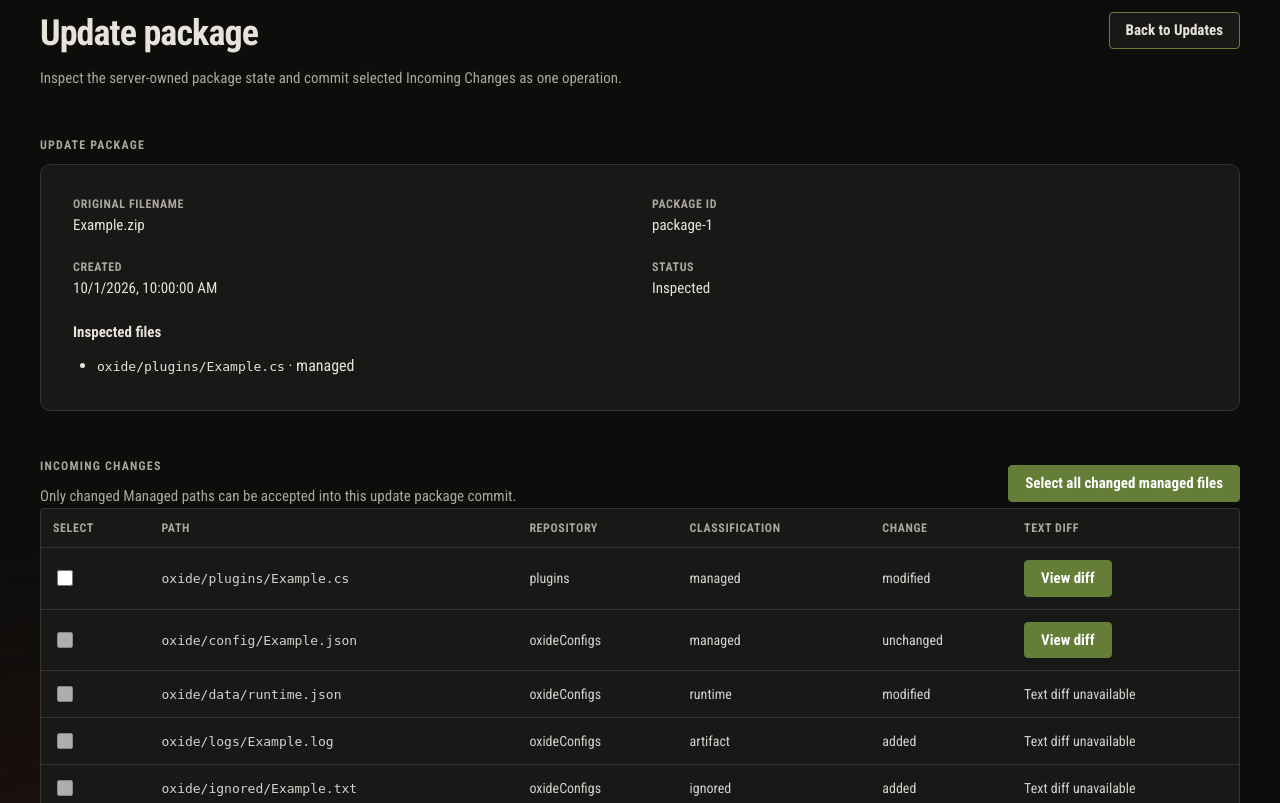
Test case: Plugins Updates › clears stale selection and closes the diff when a concurrency conflict occurs
Click the button "Select all changed managed files". click: [1124, 484]
box: x1=1008 y1=465 x2=1240 y2=502
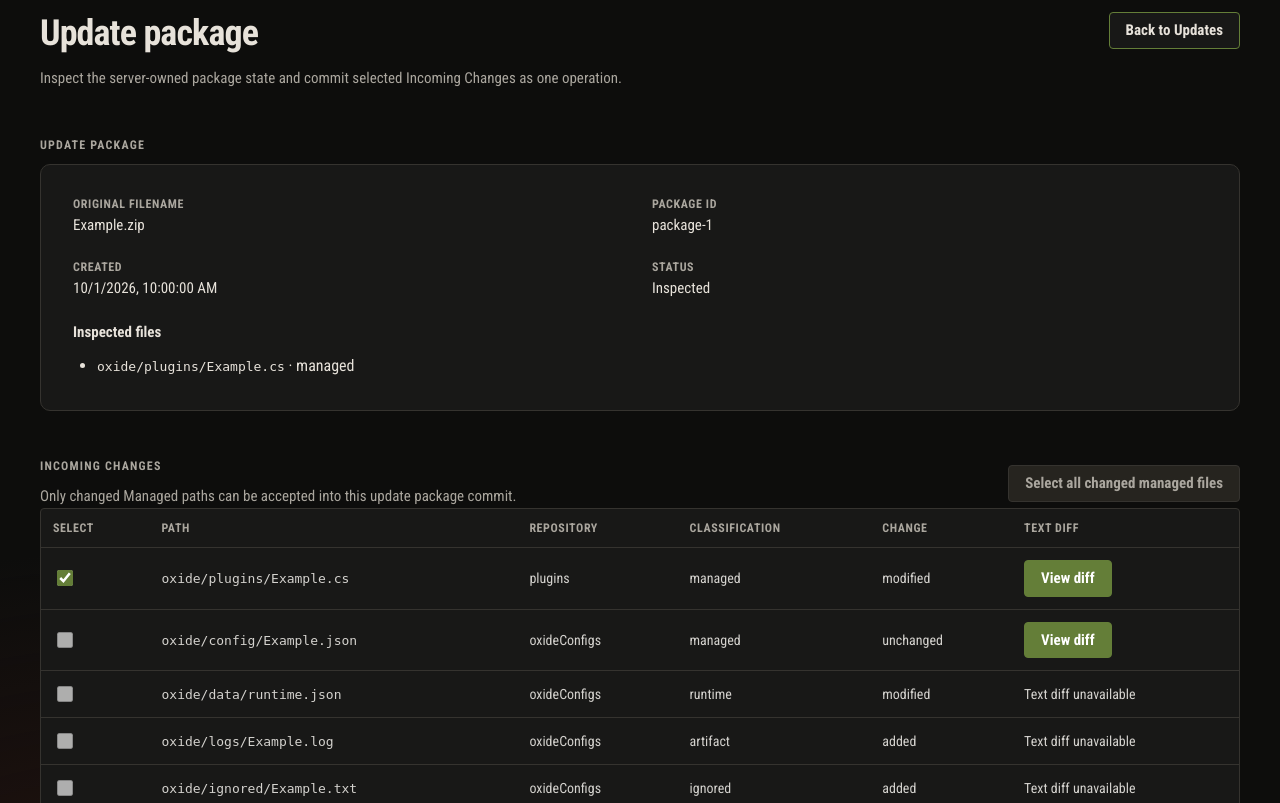
Click the 1st button "View diff". click: [1068, 578]
box: x1=1024 y1=560 x2=1112 y2=597
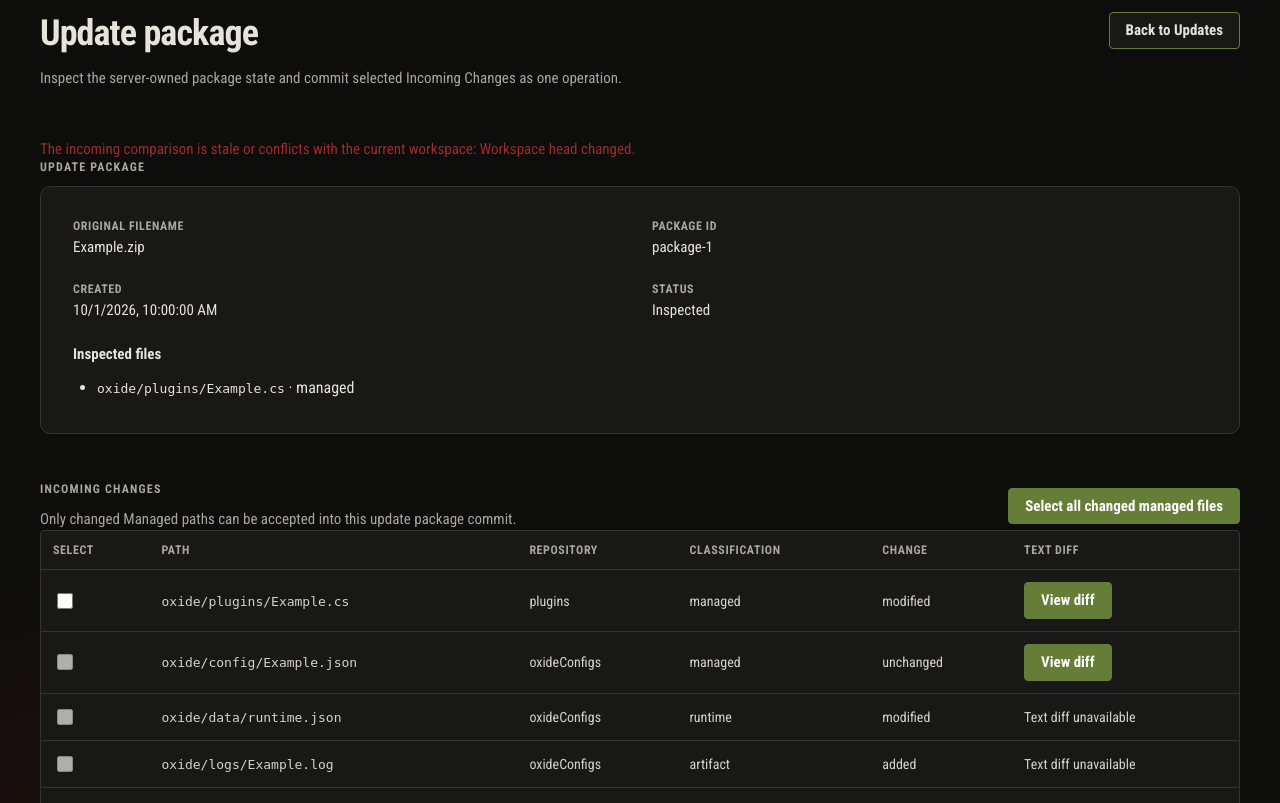
Check: the checkbox named "Accept oxide/plugins/Example.cs" is not checked, box x1=57 y1=593 x2=73 y2=609
Check: the message shows "Workspace head changed.", box x1=40 y1=140 x2=635 y2=158
